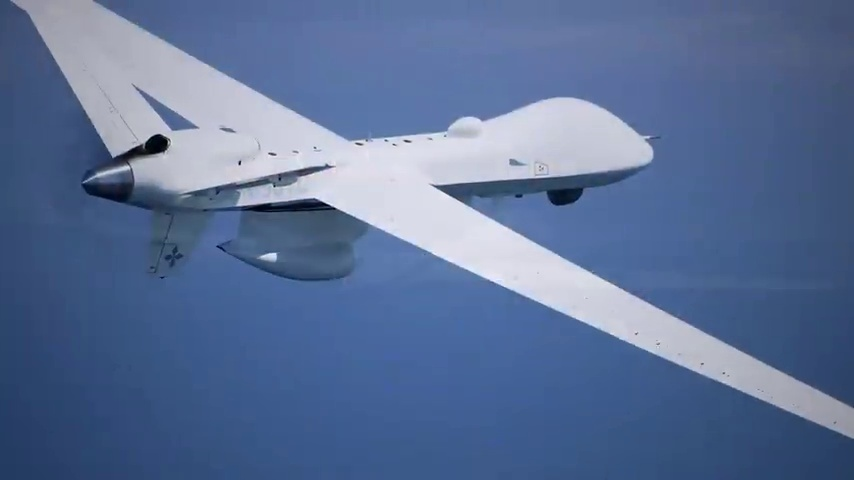military drone: (9, 0, 854, 439)
